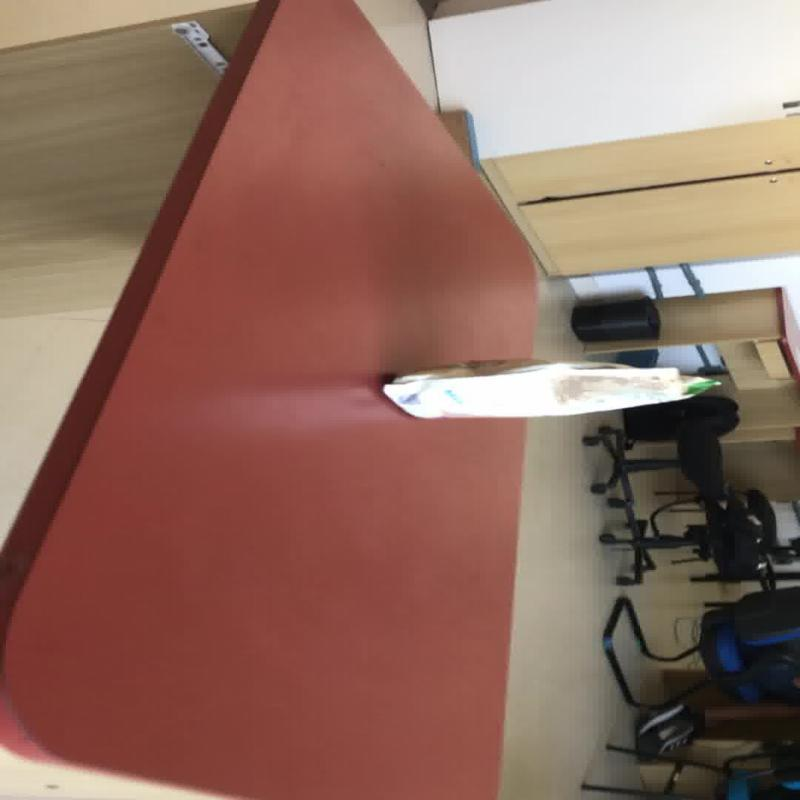corn flakes: (380, 358, 720, 419)
